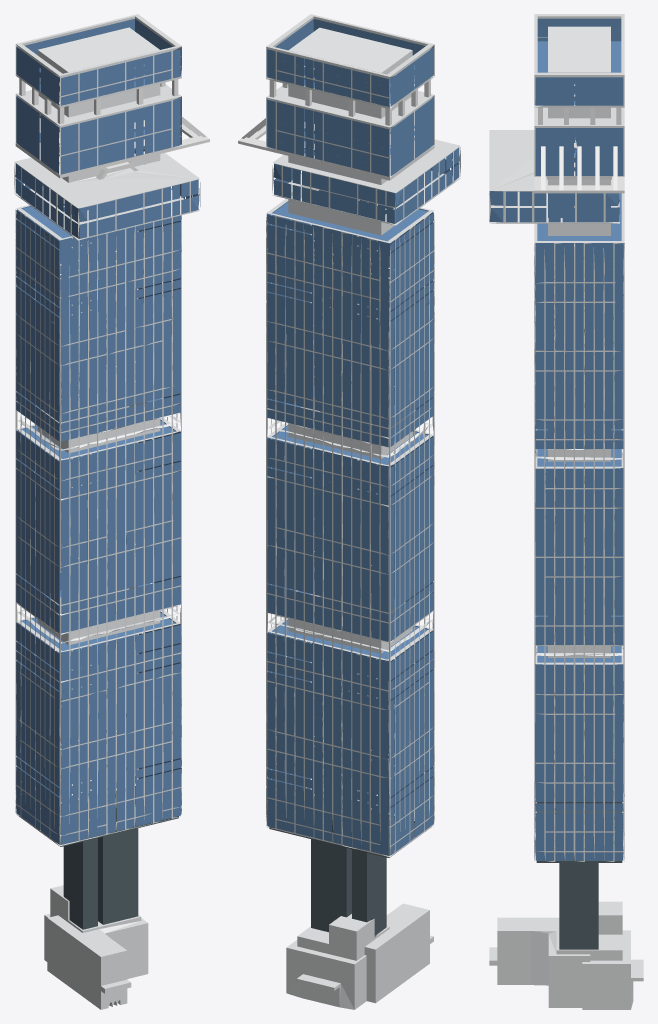
Rendered from fifth.glb.
The picture shows the model from 3 angles, left to right: view 1: azimuth 30°, elevation 25°; view 2: azimuth 150°, elevation 25°; view 3: azimuth 270°, elevation 25°; orthographic projection. The views are drawn at different scales.
Visible parts, largest first — view 1: Object_9, Object_3, Object_2, Object_10, Object_8, Object_5; view 2: Object_9, Object_3, Object_2, Object_10, Object_8, Object_5; view 3: Object_9, Object_3, Object_2, Object_10, Object_7, Object_5, Object_8.
Part boxes in pixels (box(x1,y1,x2,y2)): Object_9: box(15, 19, 198, 844); Object_3: box(14, 14, 200, 1009); Object_2: box(37, 27, 160, 645); Object_10: box(21, 786, 178, 929); Object_8: box(19, 78, 178, 124); Object_5: box(15, 123, 209, 178); Object_9: box(266, 19, 459, 855); Object_3: box(266, 14, 460, 1009); Object_2: box(288, 27, 412, 653); Object_10: box(269, 796, 431, 935); Object_8: box(269, 79, 430, 125); Object_5: box(238, 125, 434, 180); Object_9: box(489, 18, 623, 860); Object_3: box(489, 14, 643, 1009); Object_2: box(548, 26, 610, 657); Object_10: box(536, 802, 622, 949); Object_7: box(541, 146, 617, 190); Object_5: box(534, 176, 624, 193); Object_8: box(538, 107, 621, 124).
Size of the model in its own units: 40.25 by 232 by 34.24.
